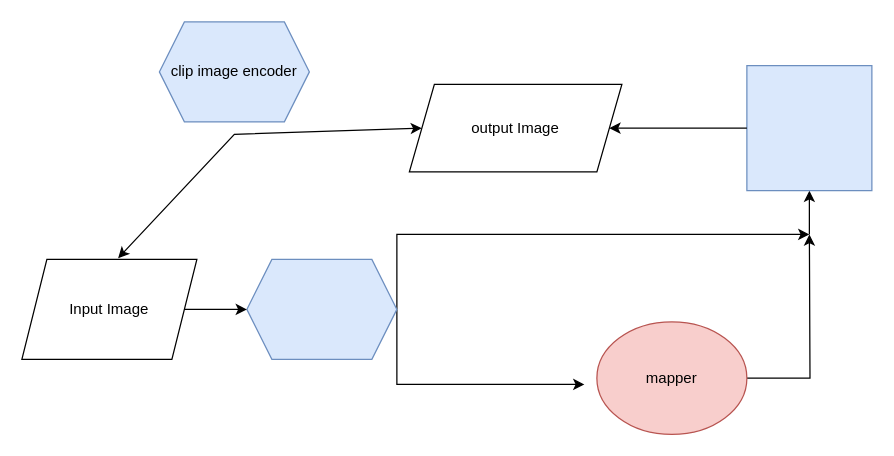
This 894x456 diagram has some shape labels left out. The centre of each missing label's shape, as x and y in pixels:
"self supervised encoder" goes at pixel 321 308.
"stylegan2 decoder" goes at pixel 809 127.
